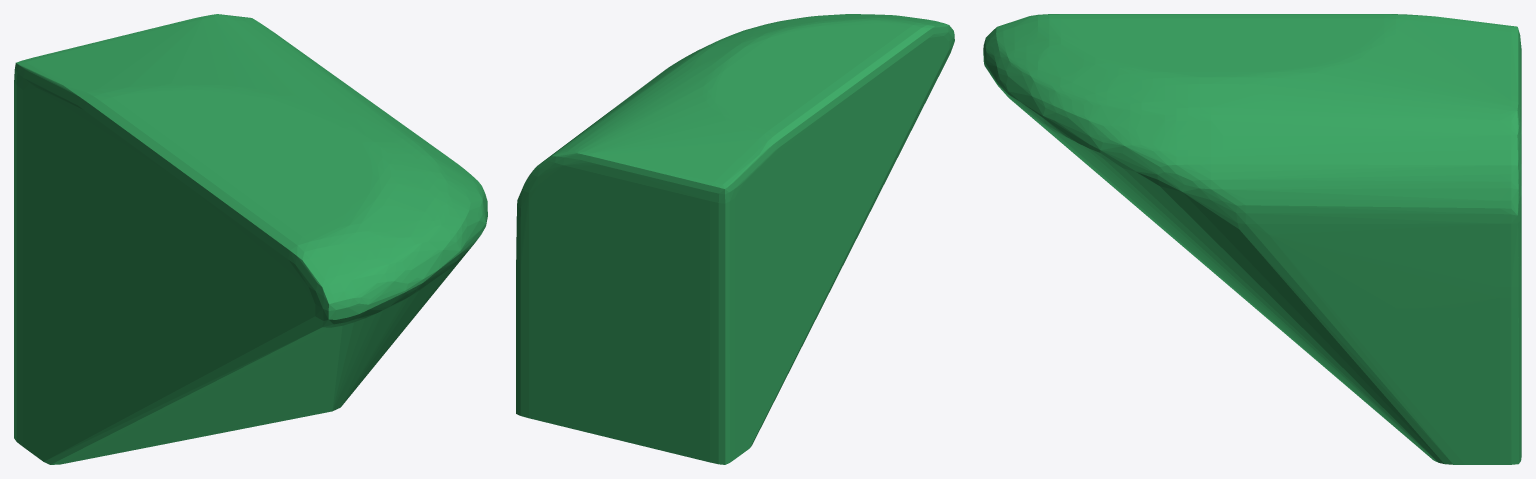
Rendered from left_lf_metacarpal_part_10.obj.
The picture shows the model from 3 angles, left to right: view 1: azimuth 30°, elevation 25°; view 2: azimuth 150°, elevation 25°; view 3: azimuth 270°, elevation 25°; orthographic projection. The views are drawn at different scales.
Bounding box in the file's own units: 9.23 × 12.01 × 17.48.
